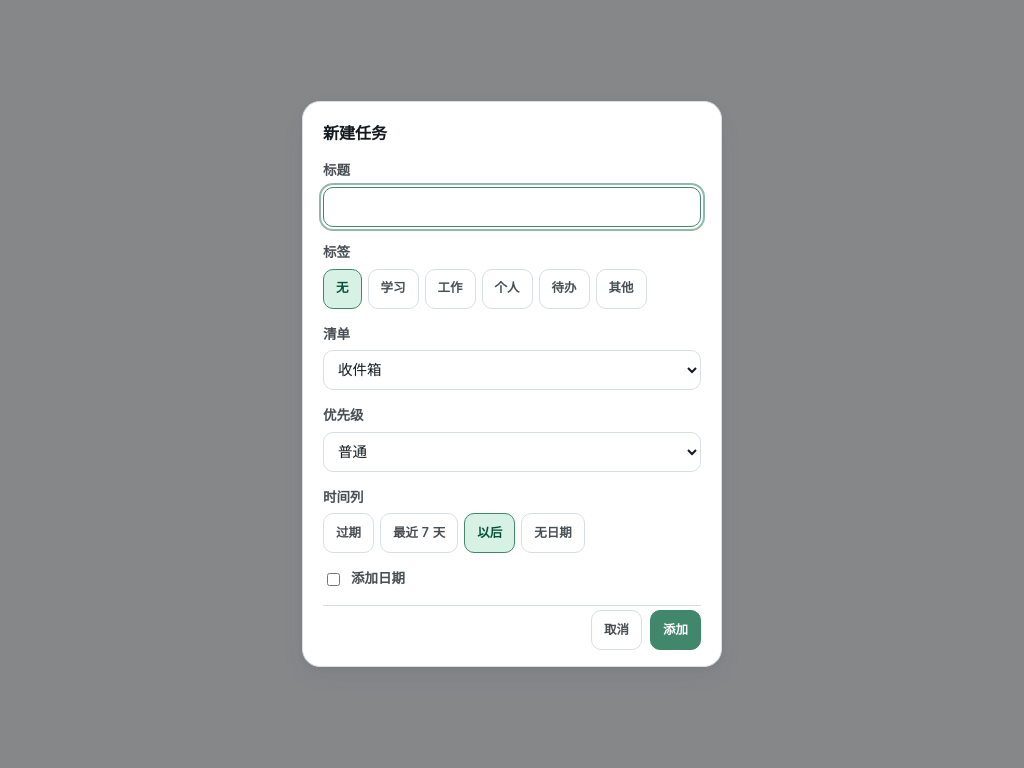
TaskComposer — T-TC-7 bilingual labels › T-TC-7b: lang=zh renders Chinese labels
The image size is (1024, 768).
Expected: the text "标题" is shown, [323,162,350,178]
Expected: the button "取消" is shown, [591,610,642,650]
Validate empty title to trigger Chinese error
Click the button "添加". click: (676, 630)
box: [650,610,701,650]
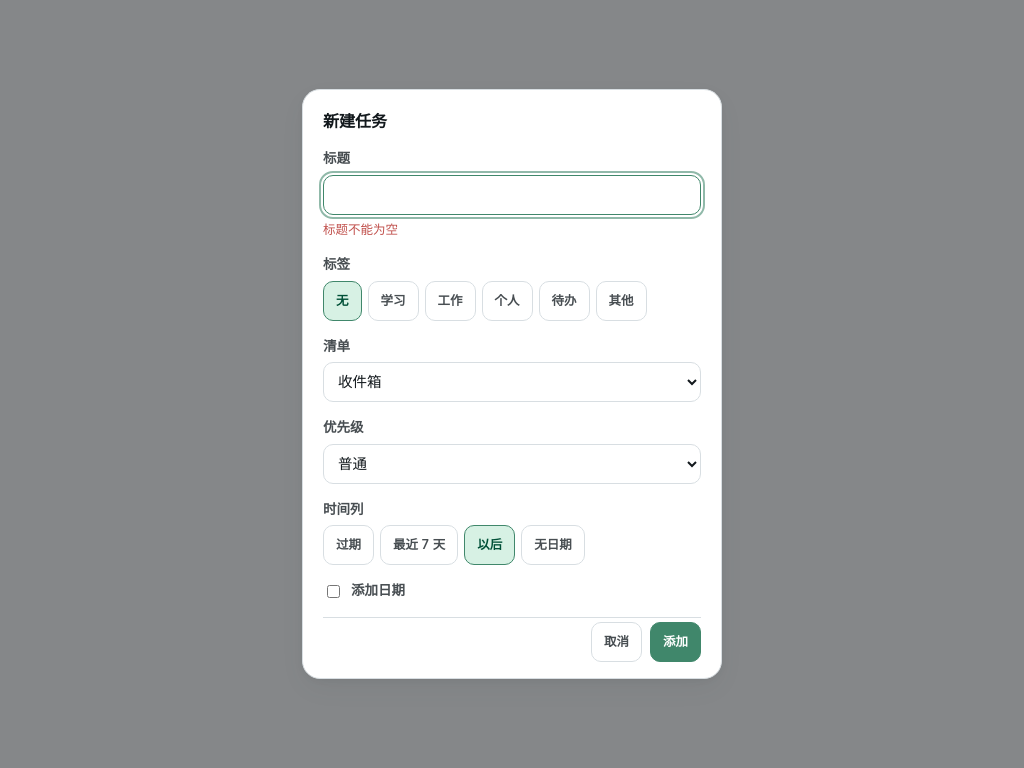
Expected: the text "标题不能为空" is shown, [323,222,398,237]
